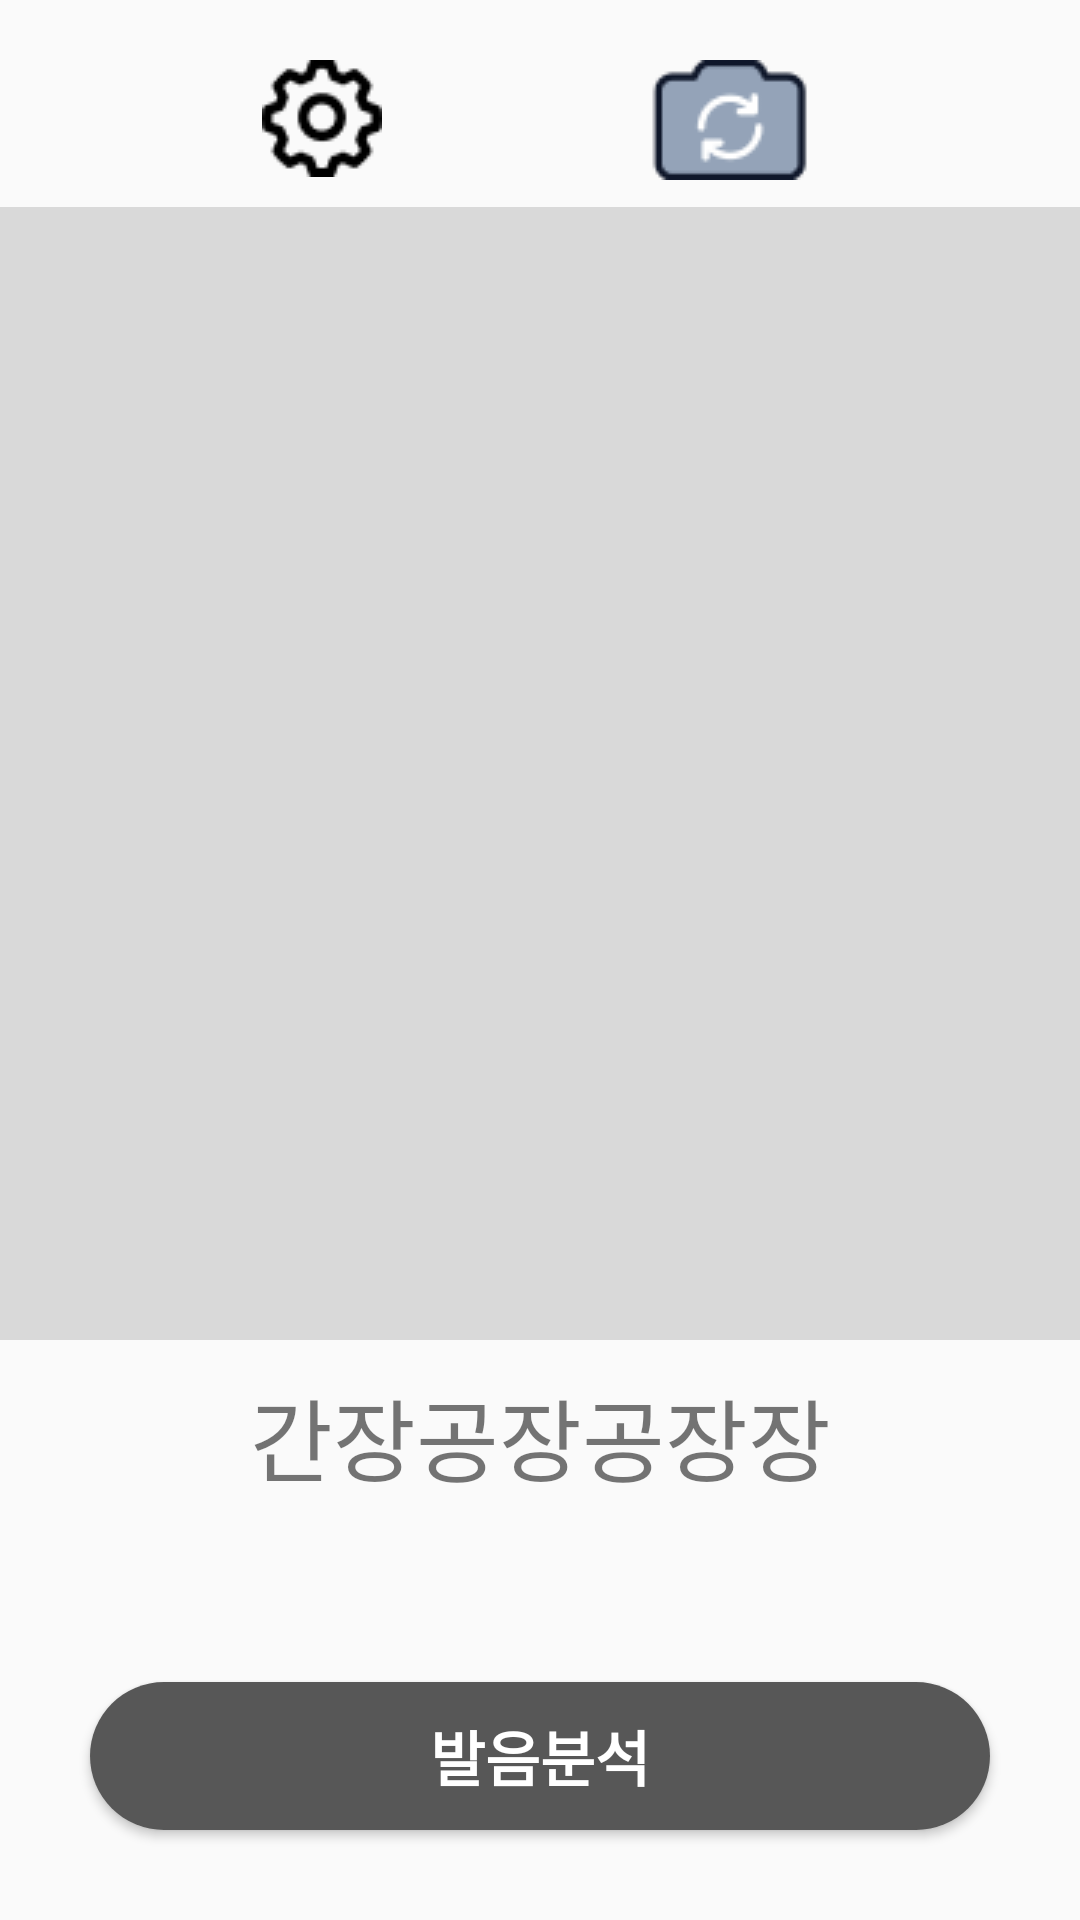

Point at icon controls on the screen. Image size 1080 × 1920, points as [x,y].
camerachange: [729,120]
setting: [322,118]
